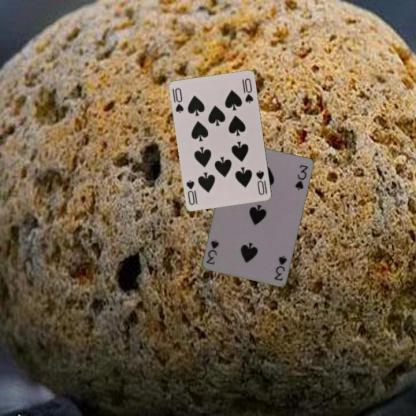10s: (254, 168, 268, 196), (172, 86, 185, 115)
3s: (272, 253, 288, 282)
